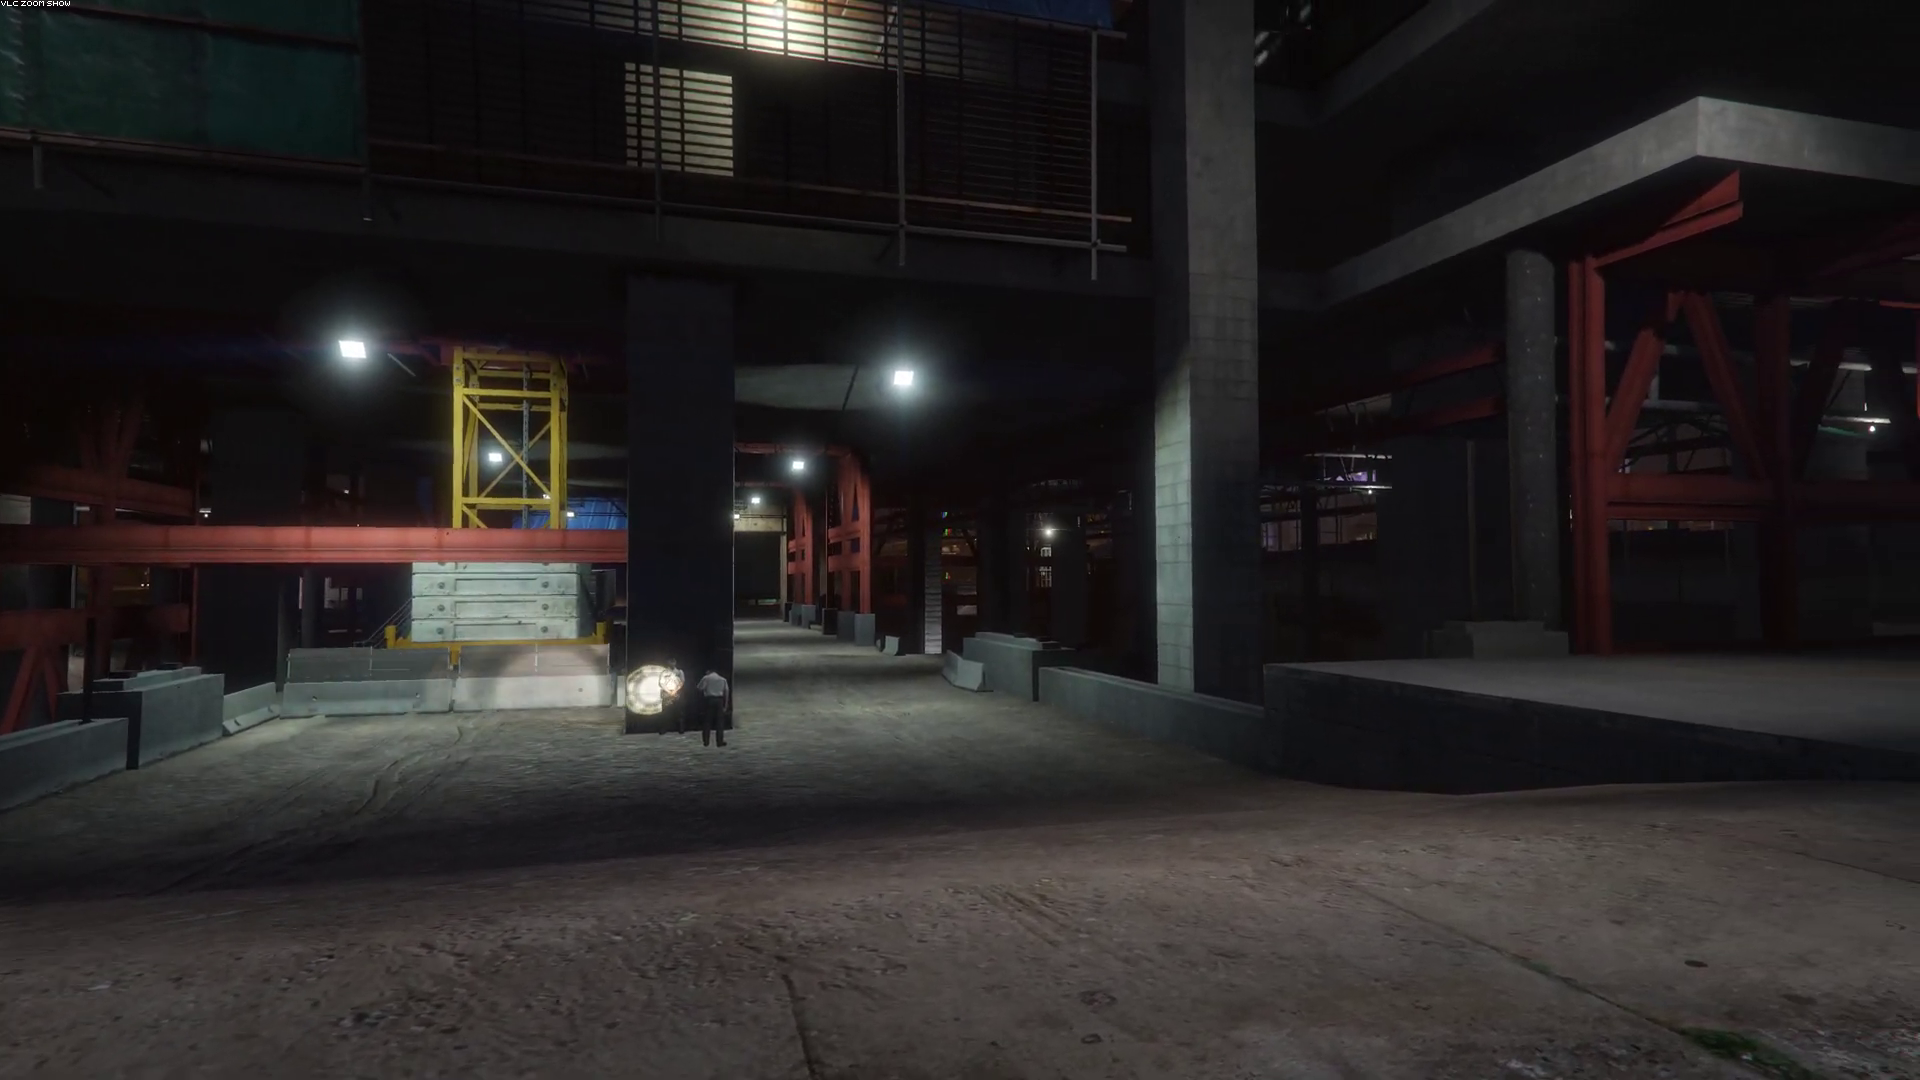person: (697, 667, 730, 747), (659, 657, 686, 733)
